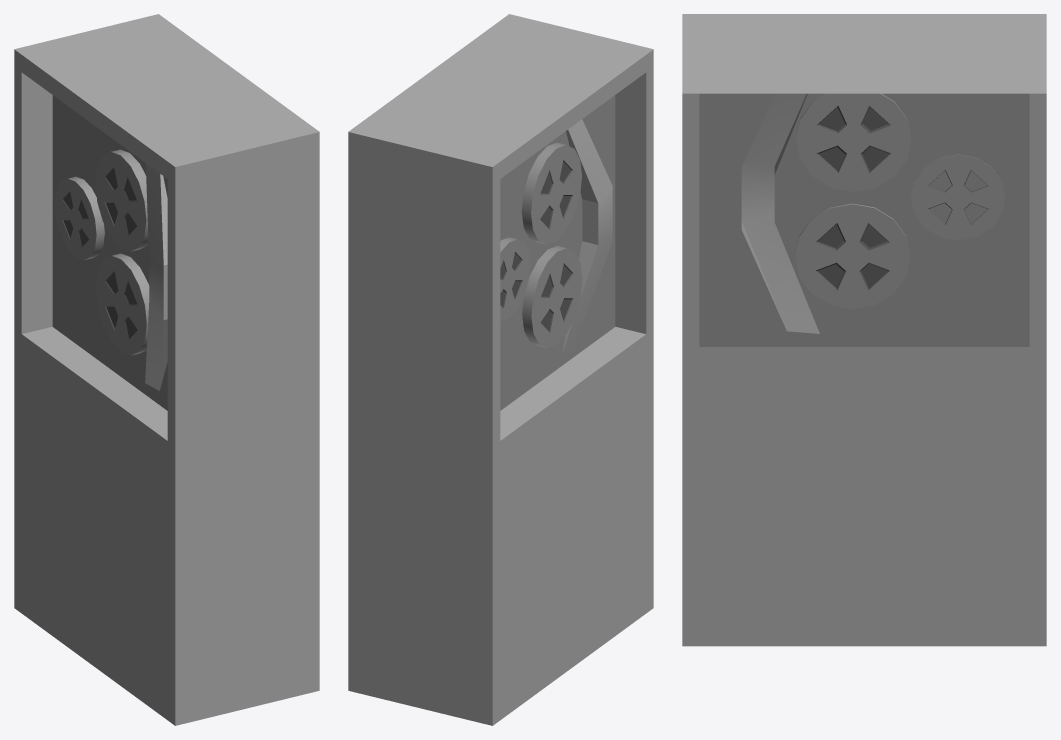
The model's file is B_StandingConsole.fbx.
3 views of the same model, side by side, from view 1: azimuth 30°, elevation 25°; view 2: azimuth 150°, elevation 25°; view 3: azimuth 270°, elevation 25° (orthographic). The views are drawn at different scales.
Visible parts, largest first — view 1: B_StandingConsole, ReelConsole4, ReelConsole3, ReelConsole5; view 2: B_StandingConsole, ReelConsole3, ReelConsole4, ReelConsole5; view 3: B_StandingConsole, ReelConsole4, ReelConsole3, ReelConsole5.
Boxes of the visible parts, <box> form: B_StandingConsole: <box>14,14,319,725</box>; ReelConsole4: <box>96,253,149,355</box>; ReelConsole3: <box>95,149,148,251</box>; ReelConsole5: <box>54,176,104,260</box>; B_StandingConsole: <box>348,14,653,725</box>; ReelConsole3: <box>521,142,581,244</box>; ReelConsole4: <box>522,246,582,347</box>; ReelConsole5: <box>500,237,530,320</box>; B_StandingConsole: <box>682,14,1046,646</box>; ReelConsole4: <box>795,203,910,308</box>; ReelConsole3: <box>796,93,911,191</box>; ReelConsole5: <box>911,154,1005,240</box>.
Size of the model in its own units: 3.01 by 11.13 by 5.82.
Materials: 4 (4 with a texture image).
